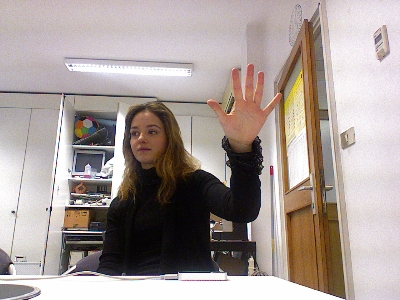布: (205, 62, 284, 145)
